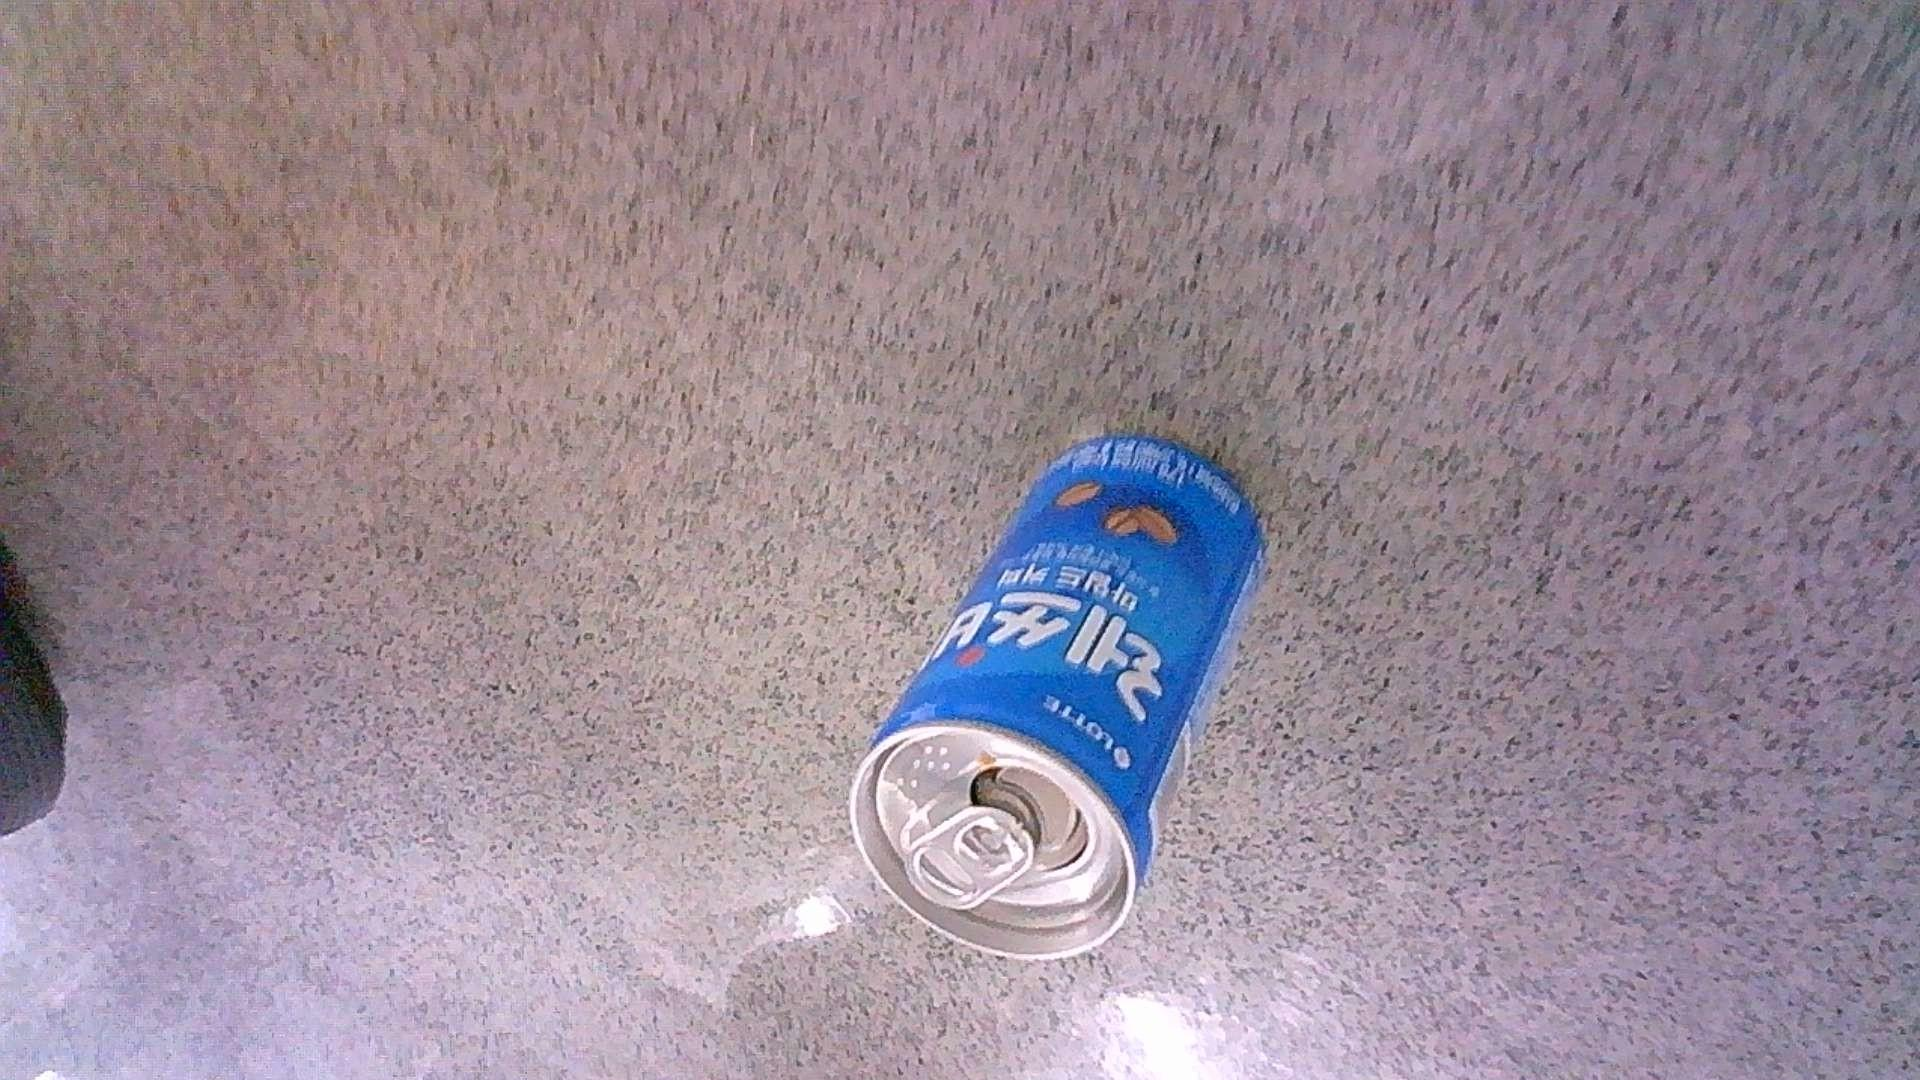letsbe: (851, 435, 1263, 964)
